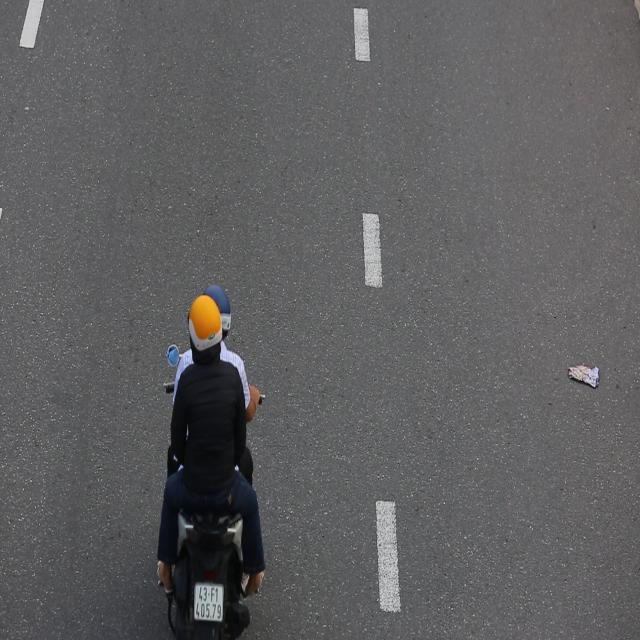motorbike: (157, 276, 273, 640)
